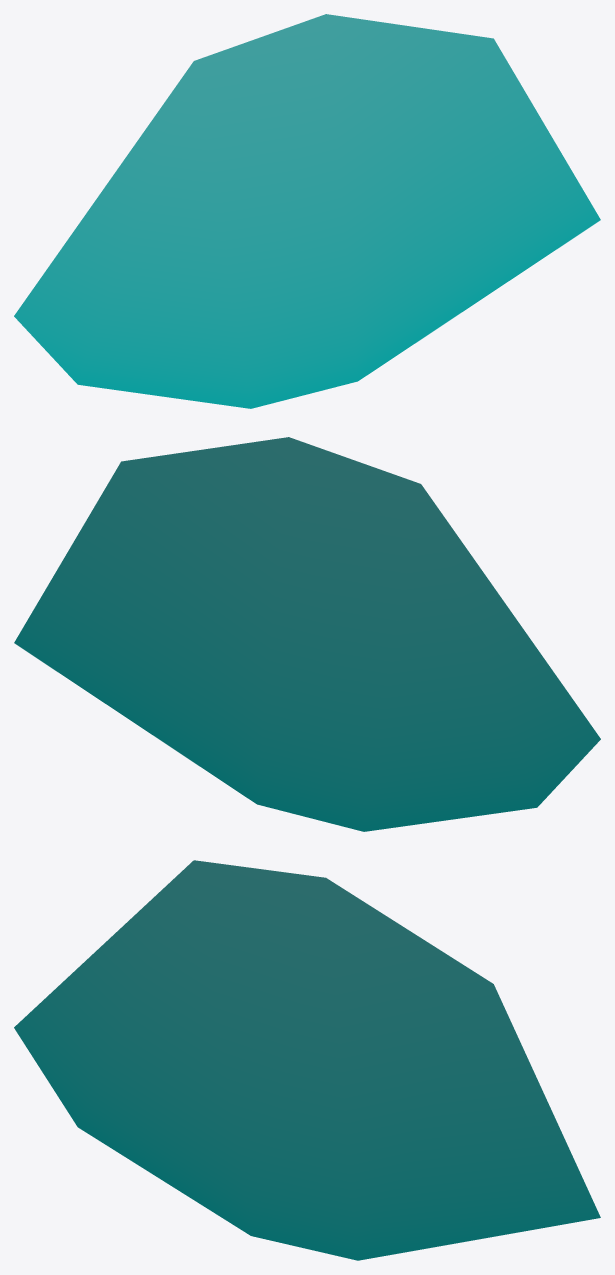
Rendered from Ribbon_Grass_tbdpec3r_High_tbdpec3r_VarC_LOD2.glb.
The picture shows the model from 3 angles, top to bottom: view 1: azimuth 30°, elevation 25°; view 2: azimuth 150°, elevation 25°; view 3: azimuth 330°, elevation 25°; orthographic projection.
Visible parts, largest first — view 1: _3cd0_VarC_LOD3; view 2: _3cd0_VarC_LOD3; view 3: _3cd0_VarC_LOD3.
Part boxes in pixels (x1,y1,x2,y2): _3cd0_VarC_LOD3: (14,14,600,408); _3cd0_VarC_LOD3: (14,437,600,831); _3cd0_VarC_LOD3: (14,860,600,1260).
Bounding box in the file's own units: 0.6014 × 0.3686 × 4.95e-08.
